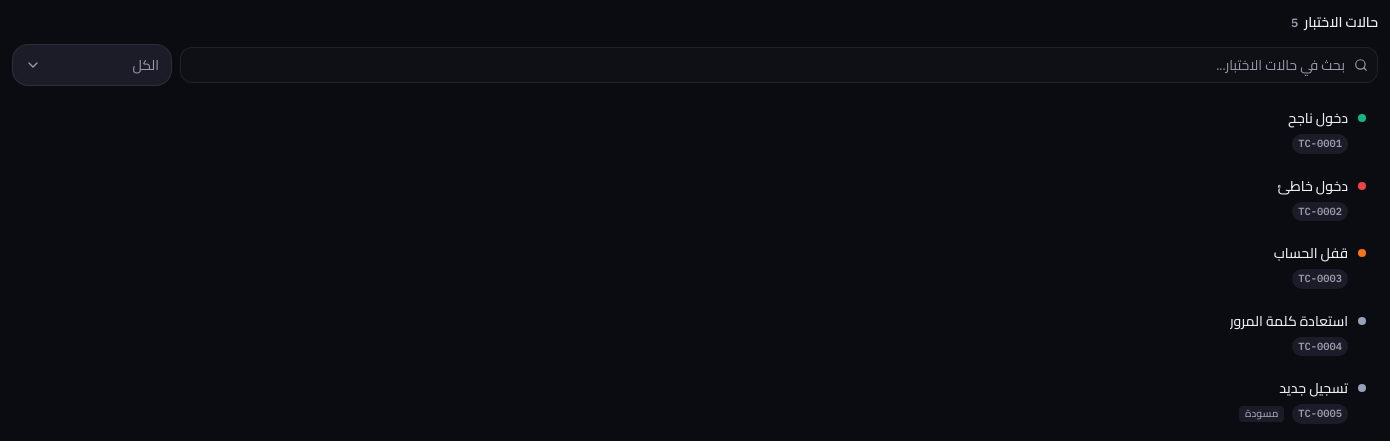
Test: TestCasePanel › filters as the search box is typed into
This screenshot has width=1390, height=441.
In the field labelled "بحث في حالات الاختبار...": (779, 65) [180, 47, 1378, 83], type "قفل"
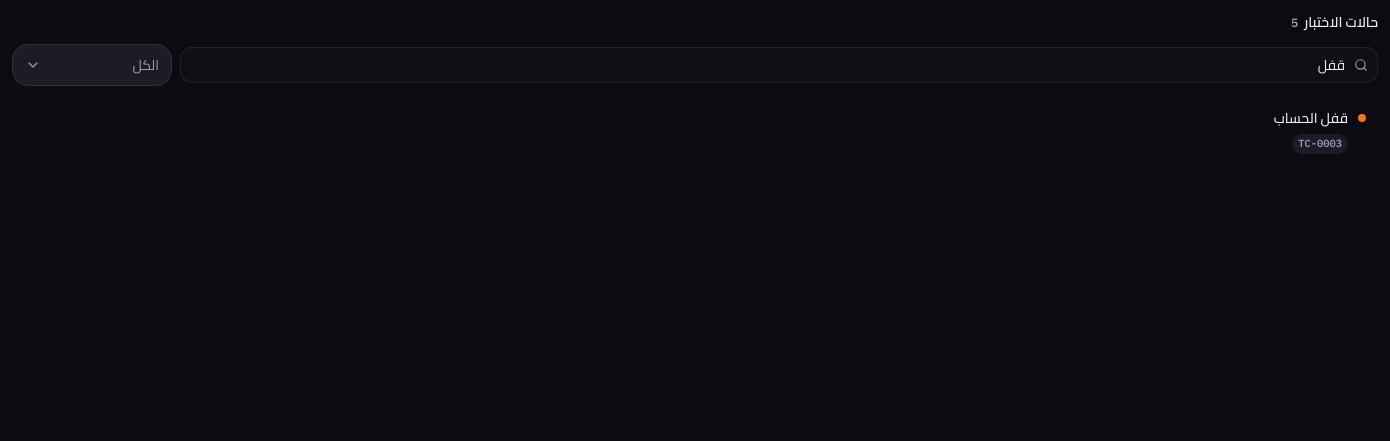
Expected: the button "قفل الحساب TC-0003" is shown, [22, 98, 1378, 164]
Expected: the button "دخول ناجح" is gone
